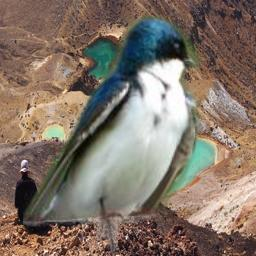Swallow: (23, 13, 201, 255)
